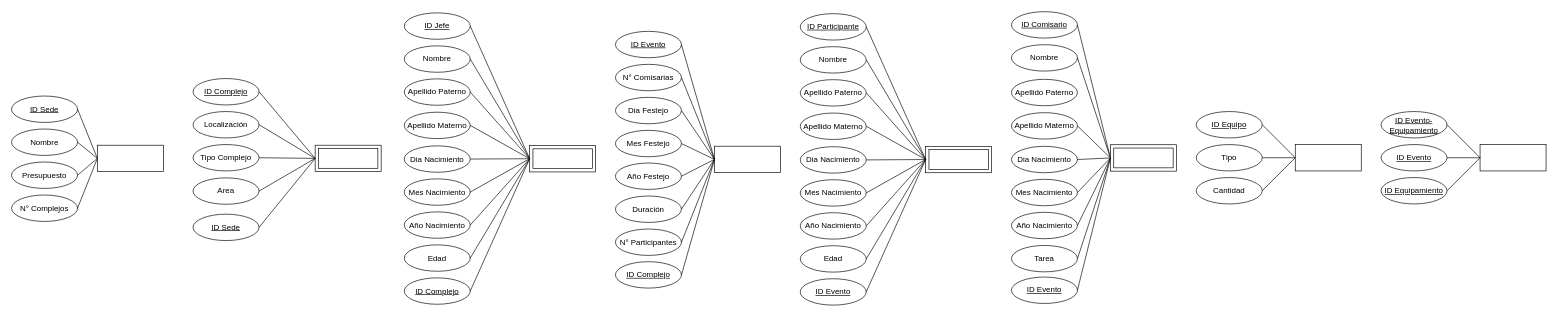
Image size: 1558x317. Some labels were removed from this diagram. The shapes that lost their labels are listed below. From the top down, each one's centre as x and y in pixels, then its label:
At (x=130, y=158): "Sede".
At (x=347, y=158): "Complejo".
At (x=562, y=158): "Jefe".
At (x=747, y=159): "Evento".
At (x=958, y=159): "Participante".
At (x=1143, y=157): "Comisario".
At (x=1328, y=157): "Equipamiento".
At (x=1512, y=157): "Evento-Equipamiento".
